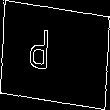P_S: (44, 28, 66, 82)
